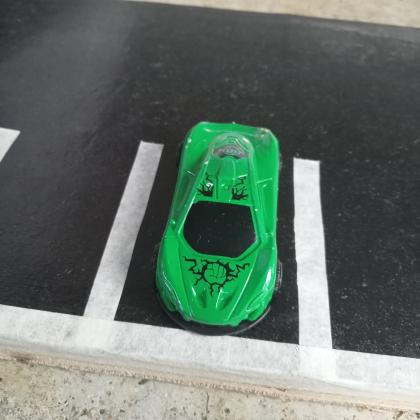Car: (152, 121, 284, 337)
